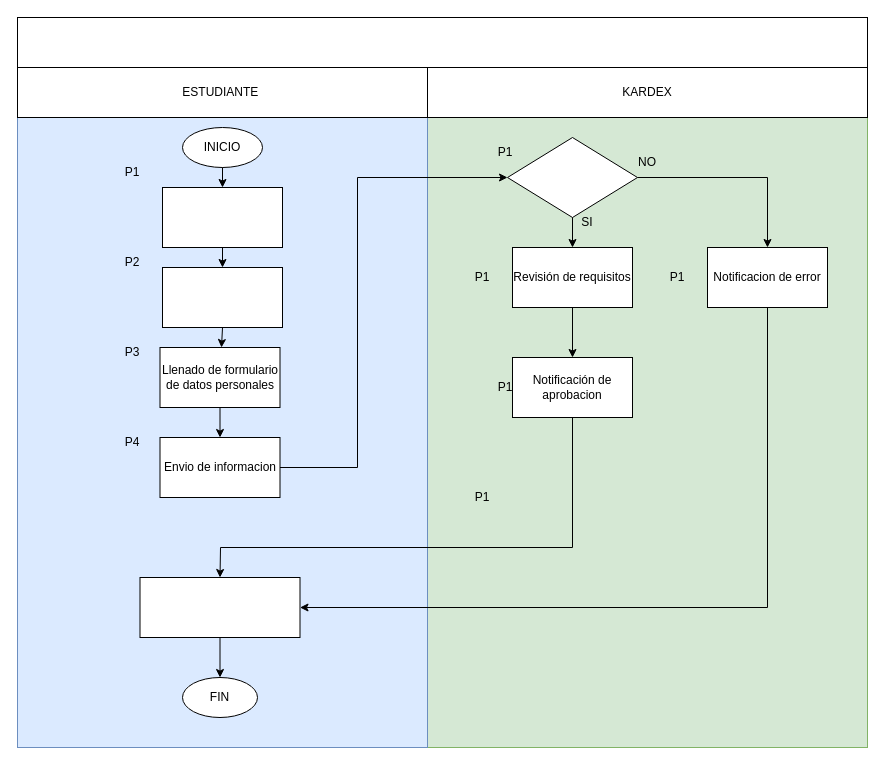
Image size: 885x765. Some labels were removed from this diagram. The shapes that lost their labels are listed below. From the top down, each one's box as (x1, y1, x2, y2) in pixels, then its label:
(16, 16, 868, 68): PROCESO DE POSTULACIÓN DE BECA COMEDOR
(506, 136, 638, 218): Tiene todos los requisitos?
(162, 186, 282, 248): Obtención de requistos
(162, 266, 282, 328): Presentacion de documentos
(139, 576, 300, 638): Finalizacion de proceso de solicitud de beca comedor
